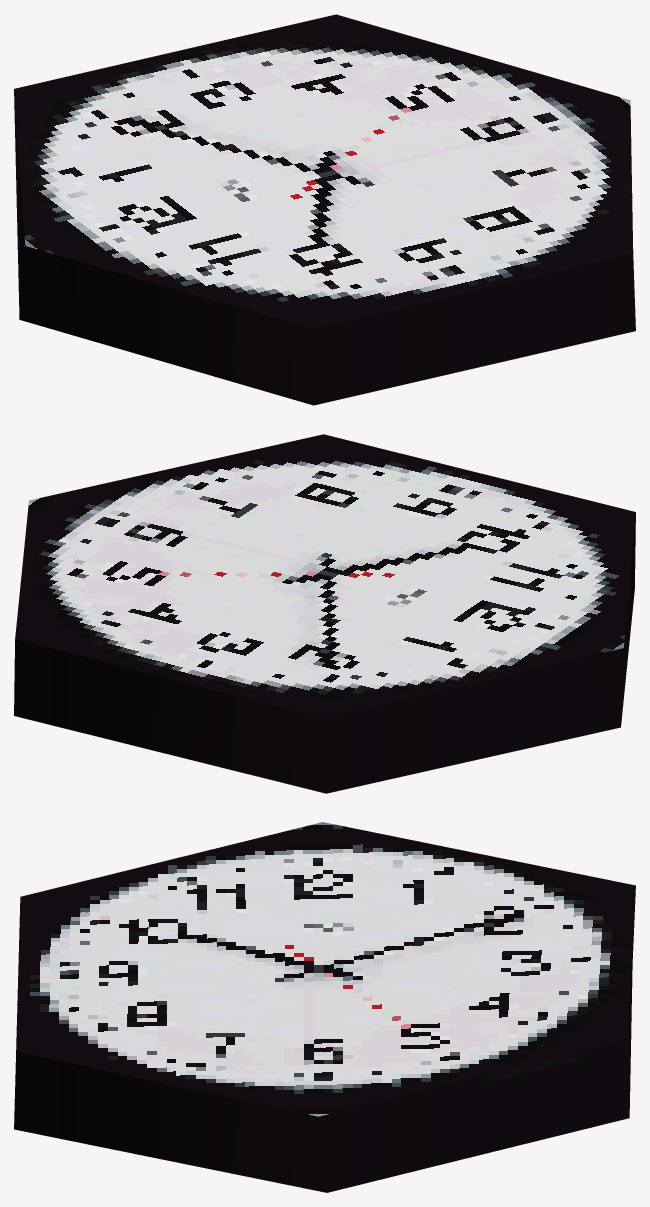
Rendered from SM_Clock_Hexagonal.fbx.
3 renders of one model, top to bottom at view 1: azimuth 30°, elevation 25°; view 2: azimuth 150°, elevation 25°; view 3: azimuth 270°, elevation 25°, orthographic.
Visible parts, largest first — view 1: SM_Clock_Hexagonal; view 2: SM_Clock_Hexagonal; view 3: SM_Clock_Hexagonal.
Boxes of the visible parts, x1,y1,x2,y2 form: SM_Clock_Hexagonal: (14,14,635,405); SM_Clock_Hexagonal: (14,434,635,793); SM_Clock_Hexagonal: (14,822,635,1192).
Size of the model in its own units: 60.14 by 8.67 by 53.47.
Materials: 1 (1 with a texture image).
